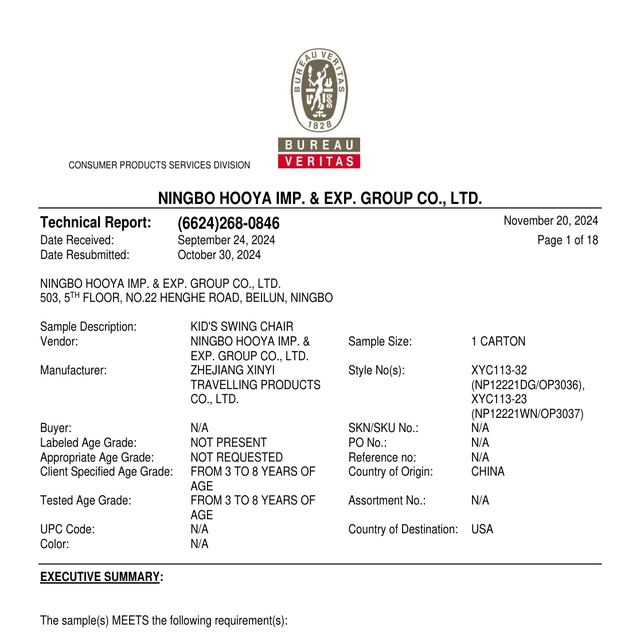bureau_veritas: (278, 46, 362, 170)
